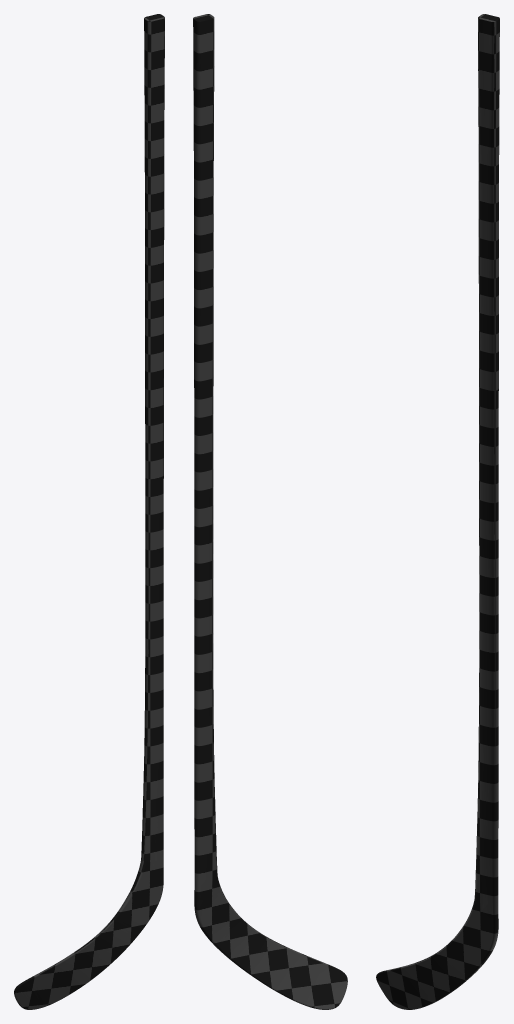
Rendered from P105-SBO.glb.
3 views of the same model, side by side, from view 1: azimuth 30°, elevation 25°; view 2: azimuth 210°, elevation 25°; view 3: azimuth 330°, elevation 25° (orthographic). The views are drawn at different scales.
Visible parts, largest first — view 1: geometry_0; view 2: geometry_0; view 3: geometry_0.
Boxes of the visible parts, left/top/right/bottom form: geometry_0: left=14, top=14, right=164, bottom=1009; geometry_0: left=193, top=14, right=347, bottom=1009; geometry_0: left=376, top=14, right=499, bottom=1009.
Size of the model in its own units: 233 by 1650 by 69.97.
1 material, 1 textured.
